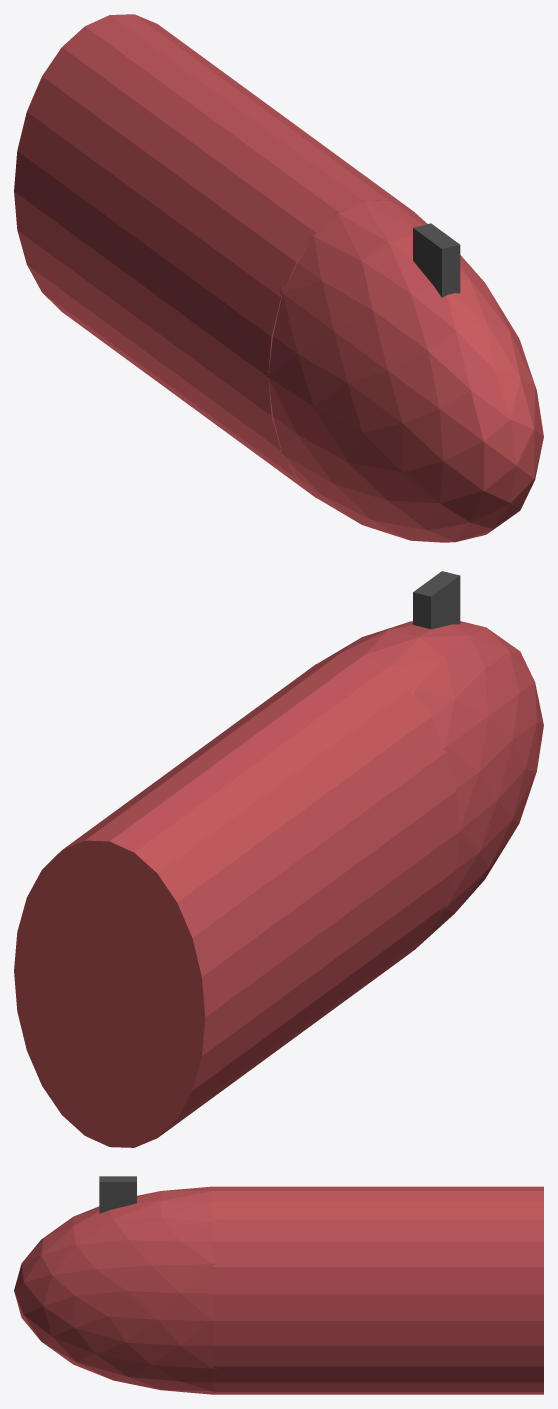
Rendered from SM_FireExtinguisher.glb.
The picture shows the model from 3 angles, top to bottom: view 1: azimuth 30°, elevation 25°; view 2: azimuth 150°, elevation 25°; view 3: azimuth 270°, elevation 25°; orthographic projection. The views are drawn at different scales.
Visible parts, largest first — view 1: part_00, part_01, part_03; view 2: part_00, part_01, part_03; view 3: part_00, part_01, part_03.
Boxes of the visible parts, left/top/right/bottom form: part_00: left=14, top=14, right=412, bottom=497; part_01: left=268, top=199, right=543, bottom=542; part_03: left=413, top=223, right=460, bottom=297; part_00: left=14, top=654, right=459, bottom=1147; part_01: left=319, top=621, right=543, bottom=951; part_03: left=413, top=571, right=460, bottom=629; part_00: left=212, top=1186, right=543, bottom=1394; part_01: left=14, top=1186, right=219, bottom=1394; part_03: left=99, top=1176, right=136, bottom=1213.
Size of the model in its own units: 0.1828 by 0.2958 by 0.6736.
